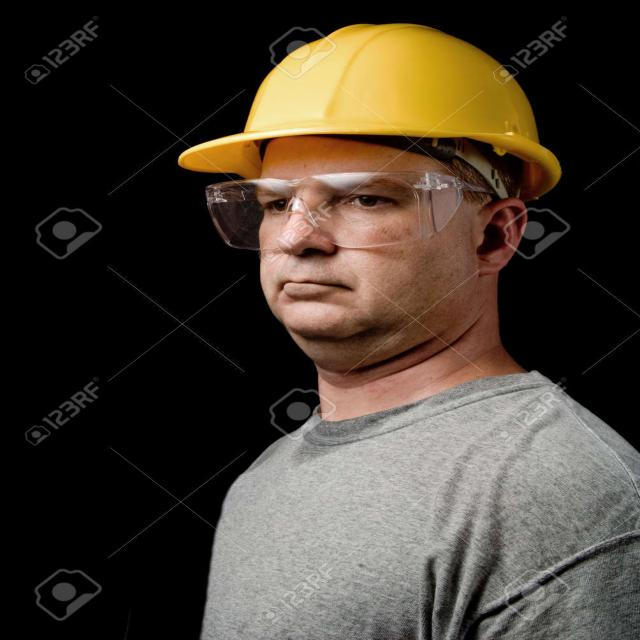goggles_on: (201, 171, 509, 254)
